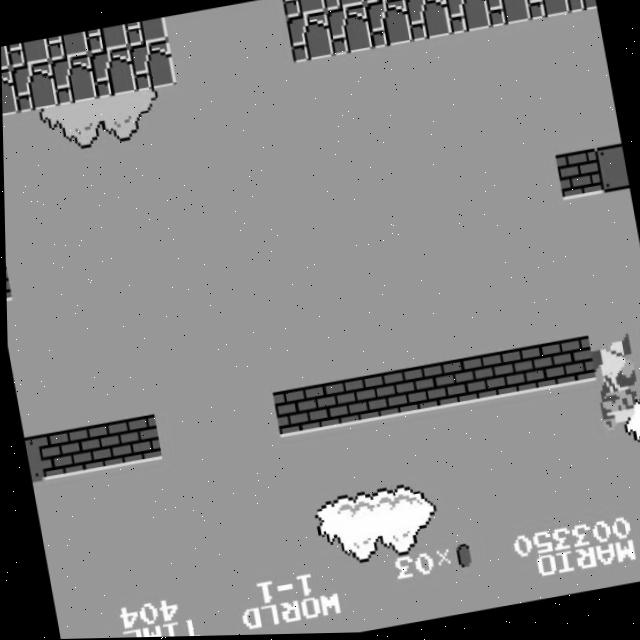1- brick_block: (554, 151, 603, 203), (546, 338, 595, 390), (507, 345, 556, 397), (467, 352, 516, 404), (428, 359, 477, 411), (349, 373, 398, 425), (310, 380, 359, 432), (270, 387, 319, 439), (113, 415, 162, 467), (34, 429, 83, 481), (73, 422, 122, 473), (389, 366, 437, 418), (4, 255, 11, 302)
13- mystery_block: (22, 436, 43, 482)
17- undestructible_block: (325, 5, 374, 58), (285, 12, 334, 65), (128, 40, 177, 93), (49, 54, 98, 107), (88, 47, 137, 99), (364, 0, 413, 51), (10, 61, 58, 113), (403, 0, 452, 44), (443, 0, 492, 37), (482, 0, 531, 30), (85, 25, 129, 55), (46, 32, 90, 62), (124, 18, 169, 47), (6, 39, 51, 68), (522, 0, 571, 23), (1, 68, 19, 120), (282, 0, 326, 19), (562, 0, 597, 16), (321, 0, 365, 12), (1, 46, 11, 75), (361, 0, 405, 6)
3- empty_block: (593, 146, 629, 197)
4- fire_mario: (587, 336, 640, 437)
